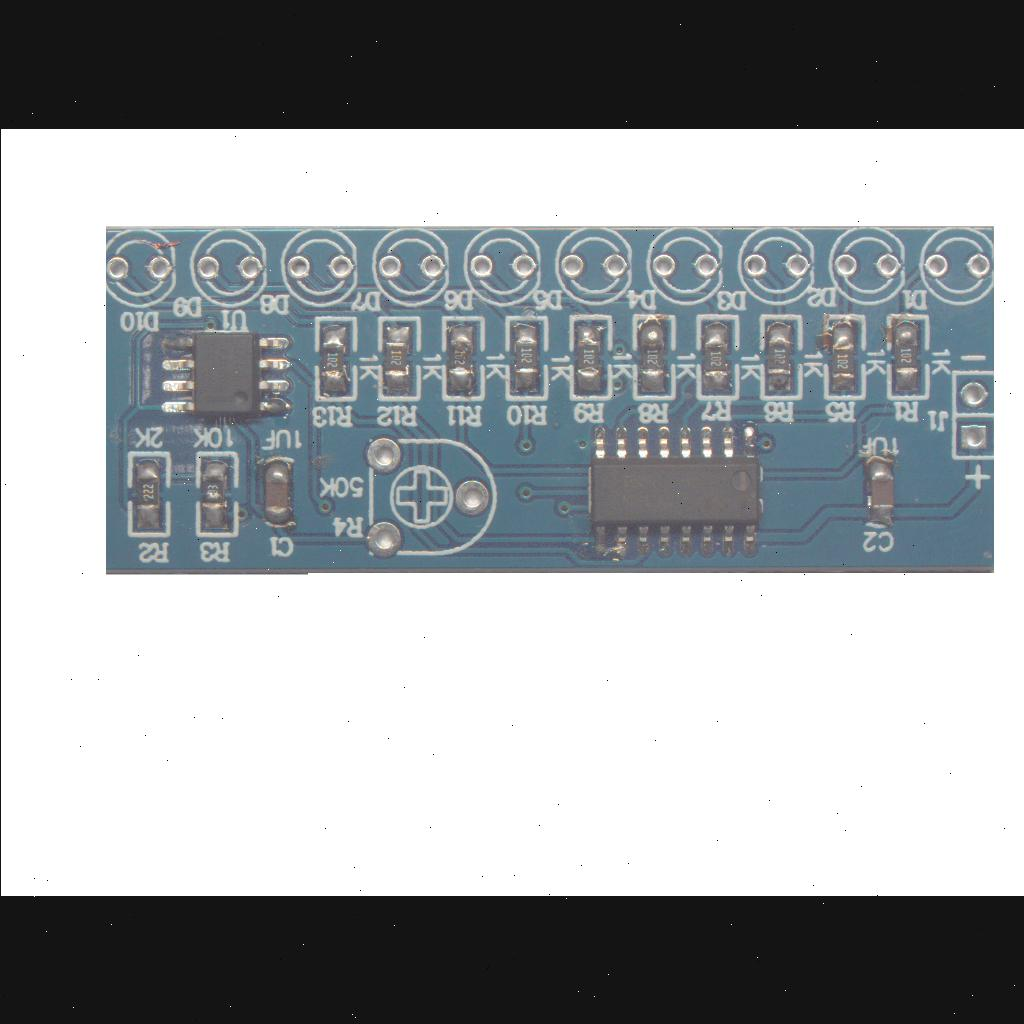OK: (578, 416, 768, 564), (150, 325, 298, 425), (882, 310, 932, 402), (438, 312, 488, 404), (124, 448, 174, 540), (564, 312, 614, 402), (310, 312, 358, 404), (192, 448, 240, 540), (374, 312, 422, 404), (628, 310, 676, 402), (694, 310, 740, 404), (756, 312, 804, 402), (501, 312, 549, 402), (820, 310, 866, 400), (255, 452, 297, 532), (860, 450, 898, 530)
